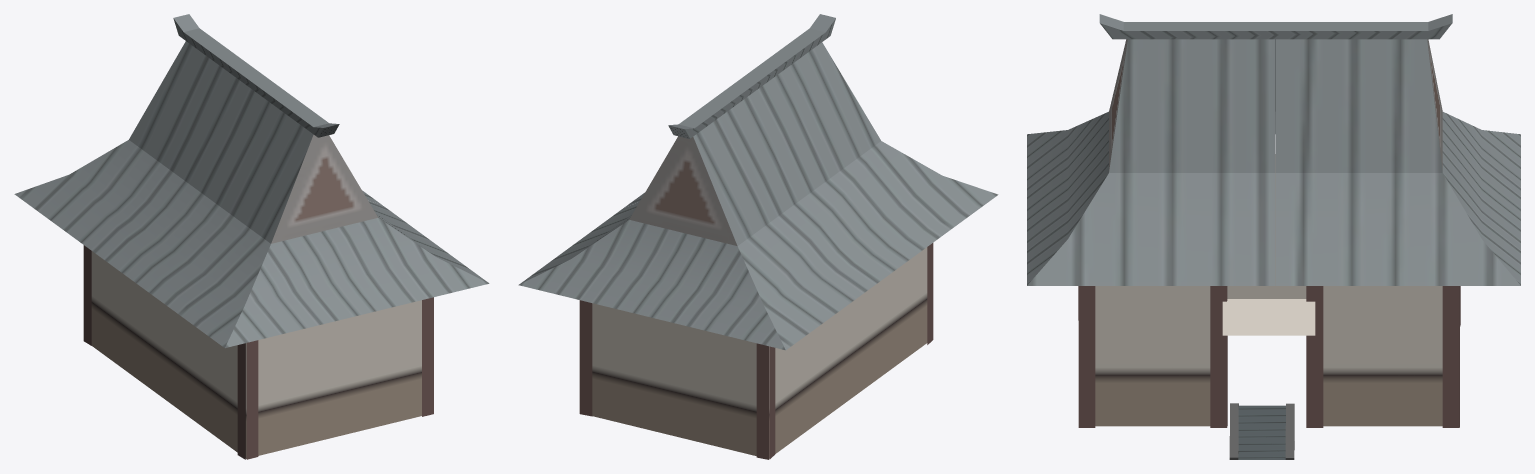
The model's file is TS_Building_07.FBX.
3 views of the same model, side by side, from view 1: azimuth 30°, elevation 25°; view 2: azimuth 150°, elevation 25°; view 3: azimuth 270°, elevation 25° (orthographic). The views are drawn at different scales.
Visible parts, largest first — view 1: TS_building_007; view 2: TS_building_007; view 3: TS_building_007.
Part boxes in pixels (x1,y1,x2,y2): TS_building_007: (14,14,489,459); TS_building_007: (518,14,998,459); TS_building_007: (1027,14,1520,459).
Bounding box in the file's own units: 2.23 × 2.27 × 2.84.
